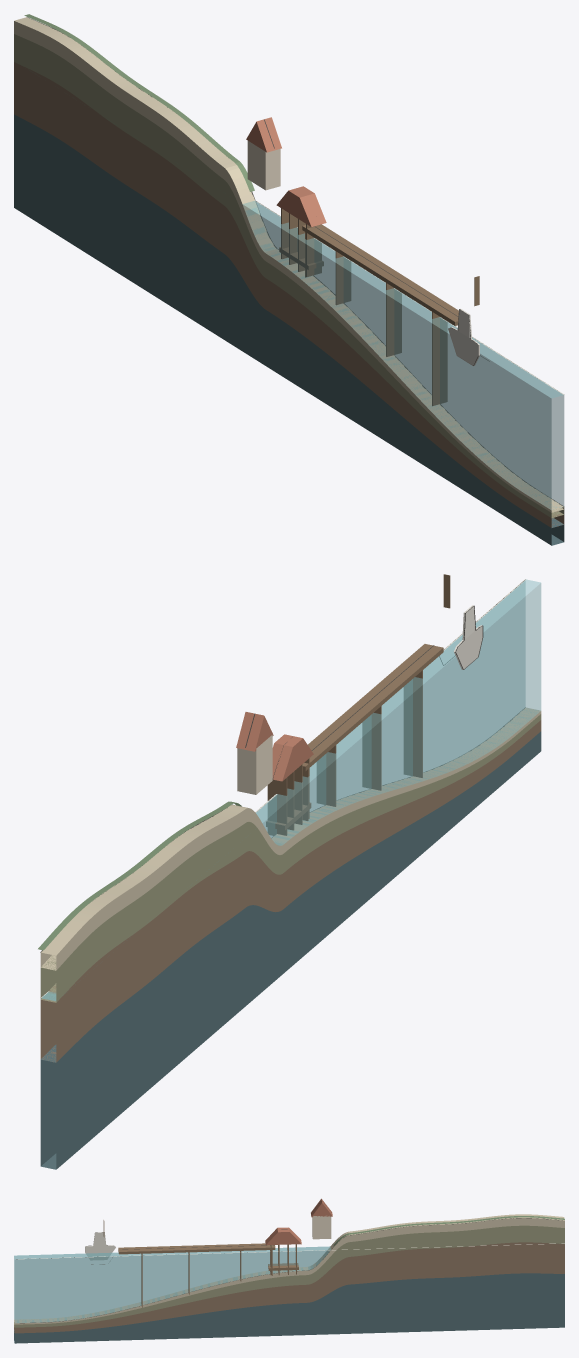
The model's file is section.glb.
3 renders of one model, top to bottom at view 1: azimuth 30°, elevation 25°; view 2: azimuth 150°, elevation 25°; view 3: azimuth 270°, elevation 25°, orthographic. The views are drawn at different scales.
Parts seen in each view (by area): view 1: SECTION_Bed, SECTION_Water, SECTION_Strata_A, SECTION_Land, SECTION_Soil, SECTION_JettyDeck, SECTION_JettyPile_15, SECTION_Topsoil, SECTION_House_0, SECTION_PavilionRoof, SECTION_JettyPile_45, SECTION_HouseRoof_0 (+2 smaller); view 2: SECTION_Bed, SECTION_Water, SECTION_Strata_A, SECTION_Soil, SECTION_Land, SECTION_JettyDeck, SECTION_JettyPile_15, SECTION_House_0, SECTION_JettyPile_45, SECTION_PavilionRoof, SECTION_Topsoil, SECTION_JettyPile_78 (+3 smaller); view 3: SECTION_Bed, SECTION_Water, SECTION_Strata_A, SECTION_Soil, SECTION_Land, SECTION_JettyDeck, SECTION_Boat, SECTION_Topsoil, SECTION_PavilionRoof, SECTION_House_0, SECTION_Waterline, SECTION_ProfileLine (+2 smaller).
Boxes of the visible parts, <box> form: SECTION_Bed: <box>14,114,564,545</box>; SECTION_Water: <box>242,201,564,509</box>; SECTION_Strata_A: <box>14,62,564,527</box>; SECTION_Land: <box>14,17,564,512</box>; SECTION_Soil: <box>14,34,564,518</box>; SECTION_JettyDeck: <box>302,224,458,325</box>; SECTION_JettyPile_15: <box>432,310,447,405</box>; SECTION_Topsoil: <box>24,14,254,191</box>; SECTION_House_0: <box>247,141,280,190</box>; SECTION_PavilionRoof: <box>276,186,326,227</box>; SECTION_JettyPile_45: <box>386,281,401,356</box>; SECTION_HouseRoof_0: <box>246,117,281,152</box>; SECTION_Bed: <box>40,731,541,1169</box>; SECTION_Water: <box>41,579,541,1001</box>; SECTION_Strata_A: <box>40,720,541,1062</box>; SECTION_Soil: <box>40,714,541,1002</box>; SECTION_Land: <box>40,707,541,970</box>; SECTION_JettyDeck: <box>302,644,443,771</box>; SECTION_JettyPile_15: <box>404,668,422,777</box>; SECTION_House_0: <box>237,735,272,794</box>; SECTION_JettyPile_45: <box>362,703,381,790</box>; SECTION_PavilionRoof: <box>272,734,313,781</box>; SECTION_Topsoil: <box>38,801,241,950</box>; SECTION_JettyPile_78: <box>317,743,336,806</box>; SECTION_Bed: <box>14,1273,564,1343</box>; SECTION_Water: <box>14,1246,330,1323</box>; SECTION_Strata_A: <box>14,1242,564,1333</box>; SECTION_Soil: <box>14,1225,564,1327</box>; SECTION_Land: <box>14,1214,564,1324</box>; SECTION_JettyDeck: <box>118,1243,275,1254</box>; SECTION_Boat: <box>85,1232,115,1260</box>; SECTION_Topsoil: <box>333,1216,564,1245</box>; SECTION_PavilionRoof: <box>265,1227,301,1245</box>; SECTION_House_0: <box>312,1215,331,1239</box>; SECTION_Waterline: <box>15,1243,564,1259</box>; SECTION_ProfileLine: <box>20,1218,562,1323</box>.
Size of the model in its own units: 16.08 by 50.89 by 190.
